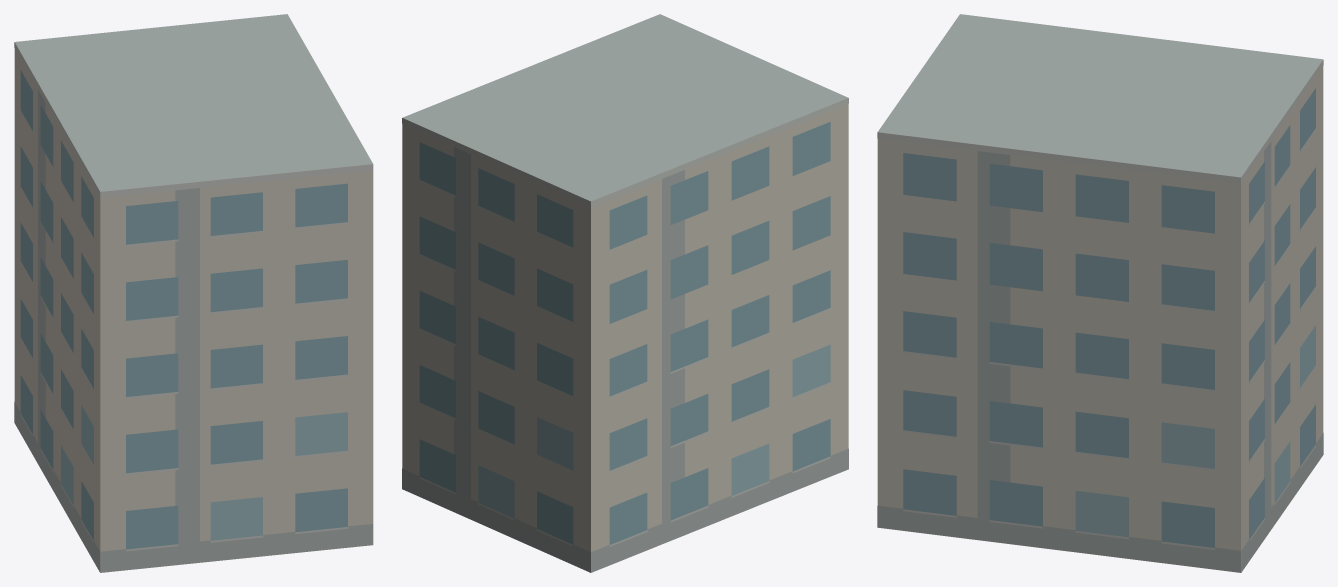
File: survey-upis-32766887.glb
3 renders of one model, left to right at view 1: azimuth 30°, elevation 25°; view 2: azimuth 150°, elevation 25°; view 3: azimuth 270°, elevation 25°, orthographic. The views are drawn at different scales.
Parts seen in each view (by area): view 1: survey-upis-32766887.tmp; view 2: survey-upis-32766887.tmp; view 3: survey-upis-32766887.tmp.
Boxes of the visible parts, x1,y1,x2,y2 form: survey-upis-32766887.tmp: (14, 14, 373, 572); survey-upis-32766887.tmp: (402, 14, 848, 572); survey-upis-32766887.tmp: (877, 14, 1323, 572).
Bounding box in the file's own units: 13.53 × 15.25 × 15.6.
